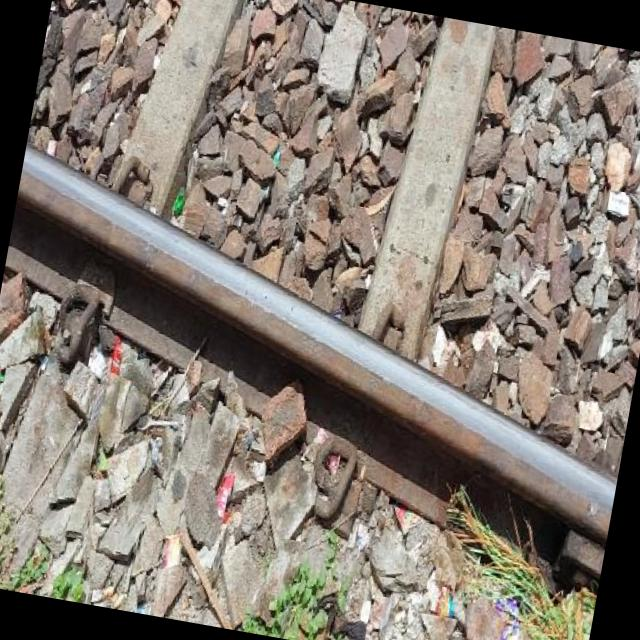non-defective: (0, 126, 640, 573)
